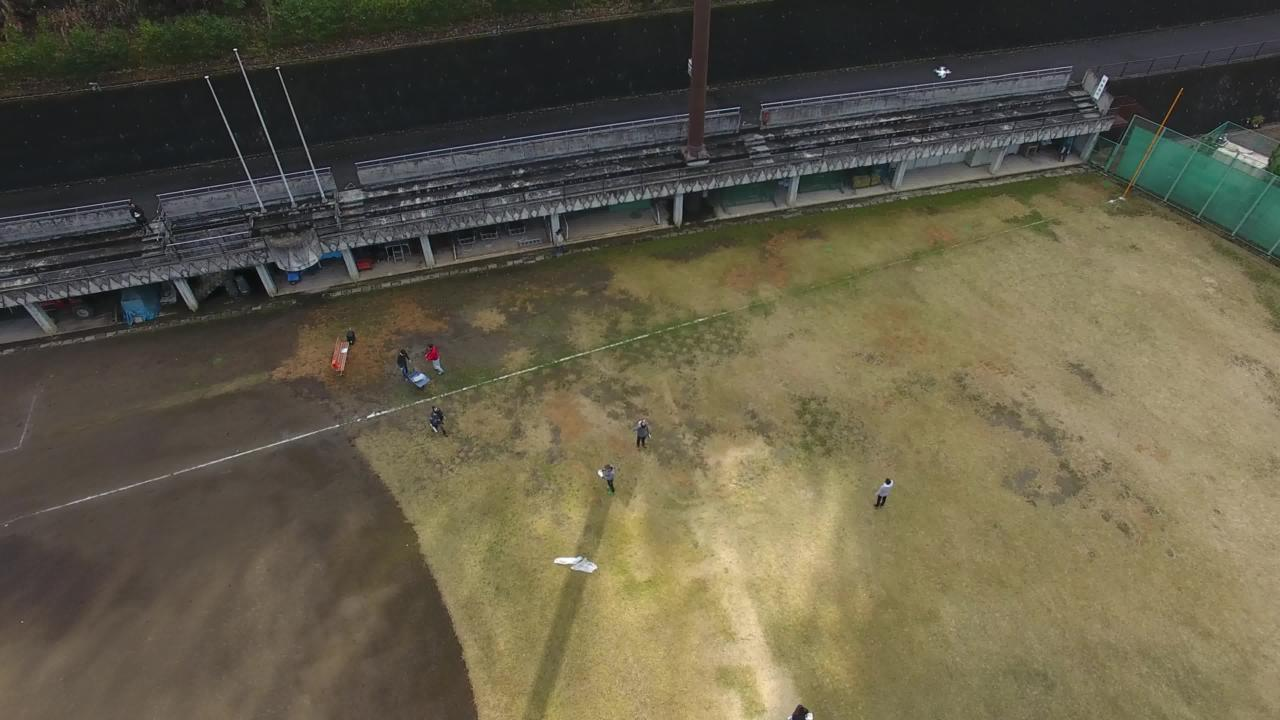person: (779, 699, 821, 720), (876, 473, 894, 510), (425, 336, 443, 373), (633, 413, 651, 450), (600, 458, 618, 495), (429, 399, 447, 436), (391, 346, 409, 383)
